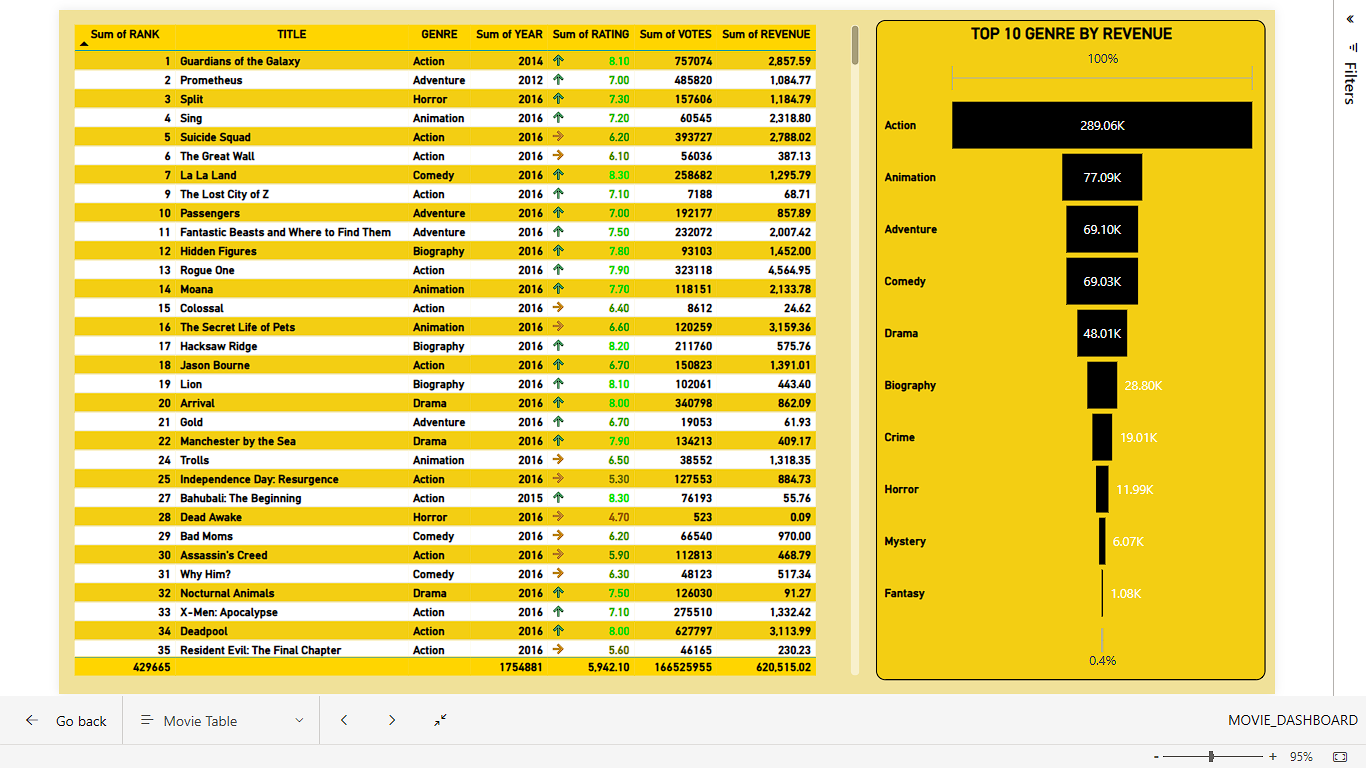

Layout of this report page (visuals, bound fields, positions):
{"tool":"powerbi","page":{"name":"Movie Table","canvas":[1280,720],"ordinal":1},"visuals":[{"type":"tableEx","fields":{"Values":["Sum(IMDb Movie.RANK)","IMDb Movie.TITLE","IMDb Movie.GENRE","Sum(IMDb Movie.YEAR)","Sum(IMDb Movie.RATING)","Sum(IMDb Movie.VOTES)","Sum(IMDb Movie.REVENUE)"]},"box":[10,10,836.7,695],"z":0},{"type":"funnel","title":"TOP 10 GENRE BY REVENUE","fields":{"Category":["IMDb Movie.GENRE"],"Y":["Sum(IMDb Movie.REVENUE)"]},"box":[860,10,410,695],"z":1000}]}

Visuals, with their boxes on the page's 1280x720 design canvas (x1, y1, x2, y2). These are canvas units, not pixel positions in the 1366x768 screenshot, which may show the page scaled, cropped or inside an application window:
tableEx - Sum(IMDb Movie.RANK) x IMDb Movie.TITLE: x1=10, y1=10, x2=847, y2=705
"TOP 10 GENRE BY REVENUE" funnel: x1=860, y1=10, x2=1270, y2=705
